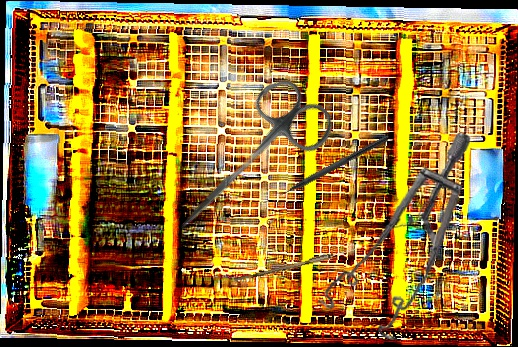Chopper: (268, 127, 389, 204)
Iris Scissors: (153, 68, 342, 259)
Speculum: (314, 126, 473, 344)
Surgical Spoon: (233, 243, 366, 285)
